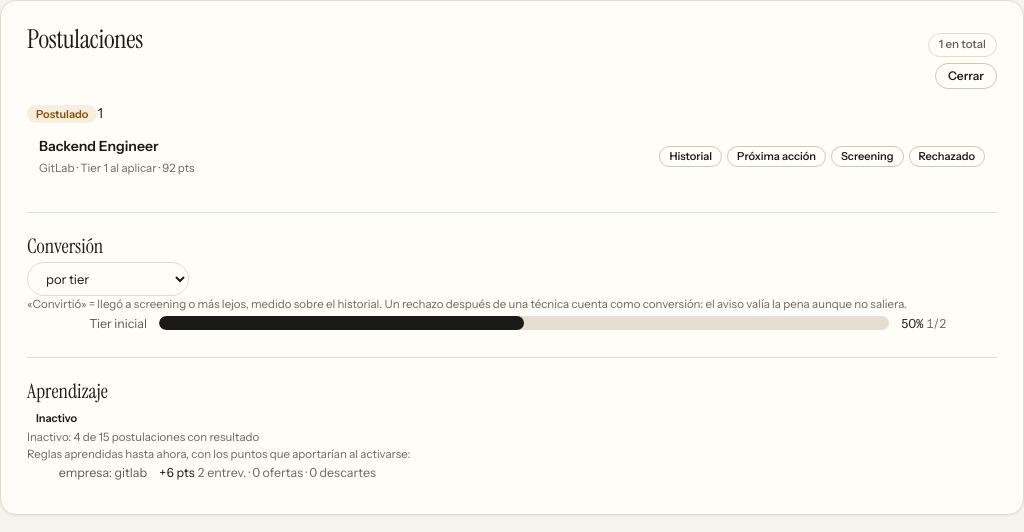
Test: Pipeline — aprendizaje e historial › ignora una respuesta tardía de la agrupación anterior
Expected: the text "Tier inicial" is shown, x1=89 y1=316 x2=147 y2=331
Select "por board" in the dropdown named "Agrupar conversión por": (108, 279) x1=27 y1=262 x2=189 y2=296
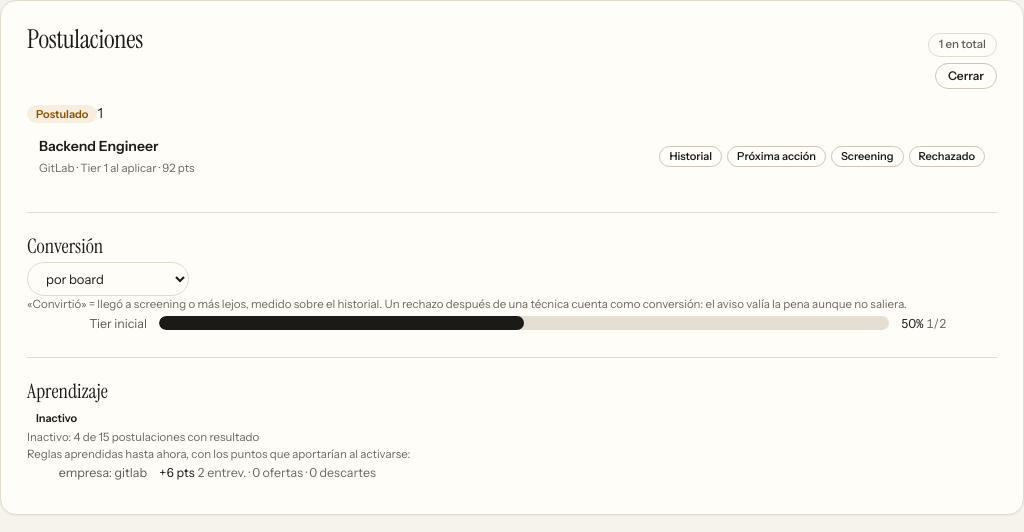
Select "por rango de score" in the dropdown named "Agrupar conversión por": (108, 279) x1=27 y1=262 x2=189 y2=296
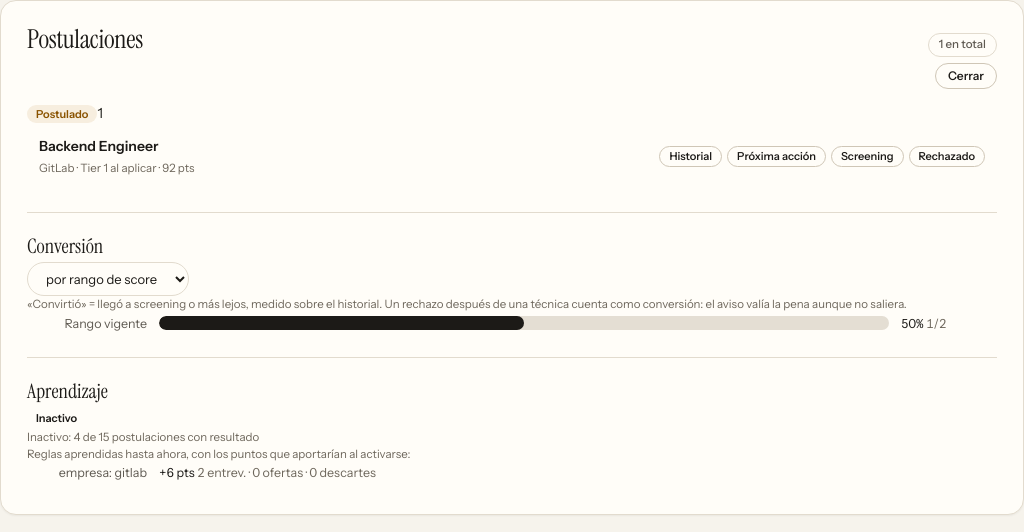
Result: the text "Rango vigente" is shown at x1=64 y1=316 x2=147 y2=331
